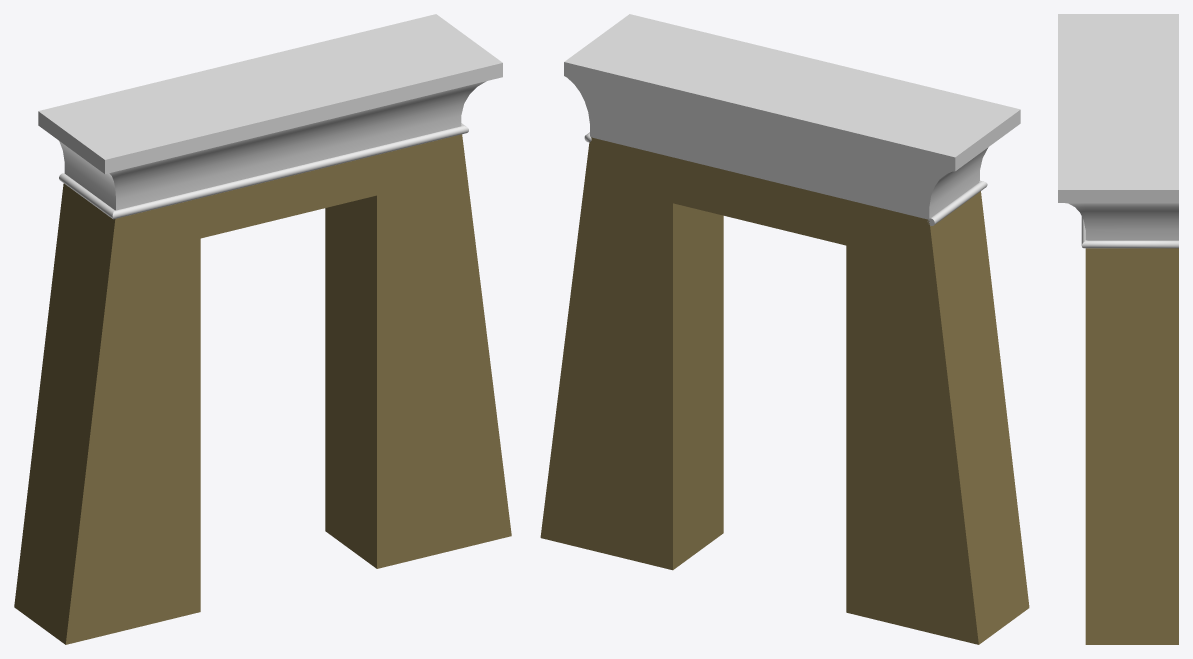
File: PylonCombo.fbx
3 renders of one model, left to right at view 1: azimuth 30°, elevation 25°; view 2: azimuth 150°, elevation 25°; view 3: azimuth 270°, elevation 25°, orthographic. The views are drawn at different scales.
Parts seen in each view (by area): view 1: Pylon_Body_flat, Desert_Pylon_Corniche.001, Desert_Pylon_Rundstab; view 2: Pylon_Body_flat, Desert_Pylon_Corniche.001; view 3: Pylon_Body_flat, Desert_Pylon_Corniche.001, Desert_Pylon_Rundstab.
Boxes of the visible parts, x1,y1,x2,y2 form: Pylon_Body_flat: (14, 134, 511, 644); Desert_Pylon_Corniche.001: (38, 14, 502, 210); Desert_Pylon_Rundstab: (59, 123, 468, 219); Pylon_Body_flat: (540, 137, 1029, 644); Desert_Pylon_Corniche.001: (564, 14, 1020, 219); Pylon_Body_flat: (1085, 248, 1178, 644); Desert_Pylon_Corniche.001: (1058, 14, 1178, 240); Desert_Pylon_Rundstab: (1081, 216, 1178, 248).
Bounding box in the file's own units: 10 × 10.5 × 2.59.
